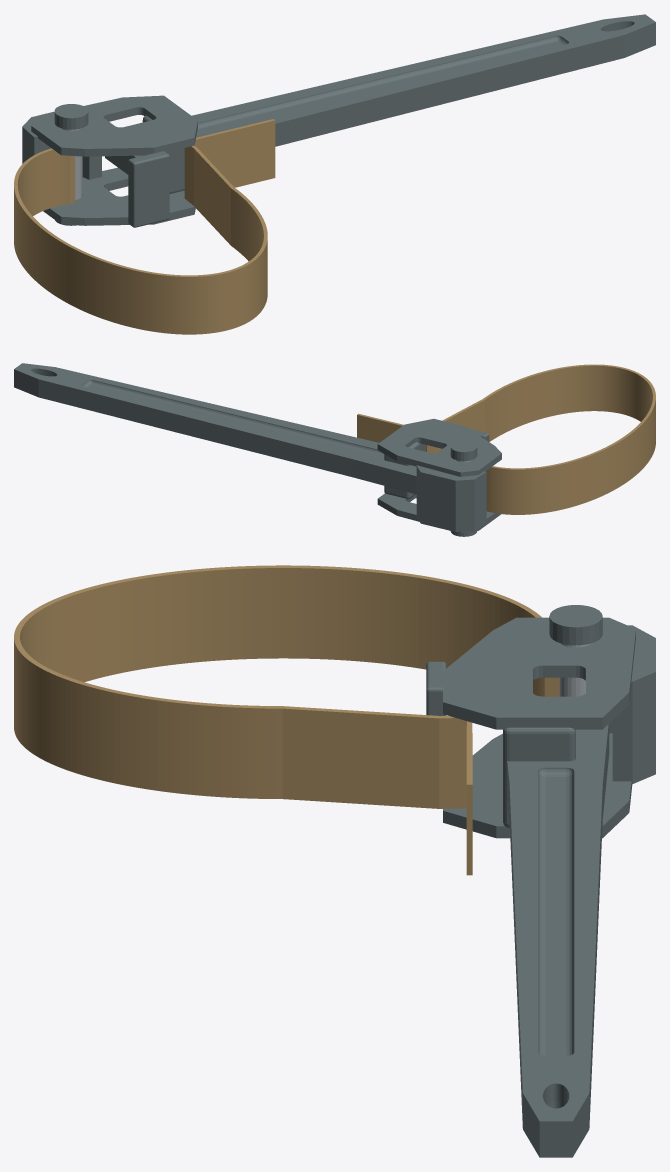
The model's file is A-NEW-20261026-STRAP-WRENCH-001_LOD0_R4.glb.
The picture shows the model from 3 angles, top to bottom: view 1: azimuth 30°, elevation 25°; view 2: azimuth 150°, elevation 25°; view 3: azimuth 270°, elevation 25°; orthographic projection. The views are drawn at different scales.
Parts seen in each view (by area): view 1: continuous flat fabric loop and tail, tapered cast handle, head side cheek.001, head side cheek, lower strap guide spacer, short curved head nose, pin retaining head.001, head handle spacer; view 2: continuous flat fabric loop and tail, tapered cast handle, head side cheek.001, short curved head nose, head side cheek, pin retaining head.001, head handle spacer; view 3: continuous flat fabric loop and tail, tapered cast handle, head side cheek.001, short curved head nose, head side cheek, head handle spacer, pin retaining head.001, lower strap guide spacer.
Boxes of the visible parts, x1=… form: continuous flat fabric loop and tail: x1=14, y1=119, x2=275, y2=334; tapered cast handle: x1=105, y1=14, x2=655, y2=174; head side cheek.001: x1=31, y1=95, x2=197, y2=156; head side cheek: x1=43, y1=167, x2=195, y2=225; lower strap guide spacer: x1=128, y1=151, x2=169, y2=227; short curved head nose: x1=22, y1=111, x2=101, y2=179; pin retaining head.001: x1=54, y1=104, x2=88, y2=129; head handle spacer: x1=142, y1=115, x2=184, y2=193; continuous flat fabric loop and tail: x1=357, y1=364, x2=655, y2=514; tapered cast handle: x1=14, y1=363, x2=416, y2=494; head side cheek.001: x1=377, y1=418, x2=501, y2=476; short curved head nose: x1=416, y1=465, x2=486, y2=531; head side cheek: x1=377, y1=493, x2=501, y2=532; pin retaining head.001: x1=450, y1=441, x2=477, y2=461; head handle spacer: x1=384, y1=442, x2=425, y2=499; continuous flat fabric loop and tail: x1=14, y1=565, x2=559, y2=875; tapered cast handle: x1=507, y1=724, x2=609, y2=1157; head side cheek.001: x1=443, y1=617, x2=635, y2=729; short curved head nose: x1=609, y1=625, x2=655, y2=784; head side cheek: x1=443, y1=733, x2=632, y2=838; head handle spacer: x1=503, y1=727, x2=575, y2=828; pin retaining head.001: x1=549, y1=605, x2=602, y2=645; lower strap guide spacer: x1=426, y1=661, x2=446, y2=715.
Size of the model in its own units: 0.3759 by 0.056 by 0.1929.
